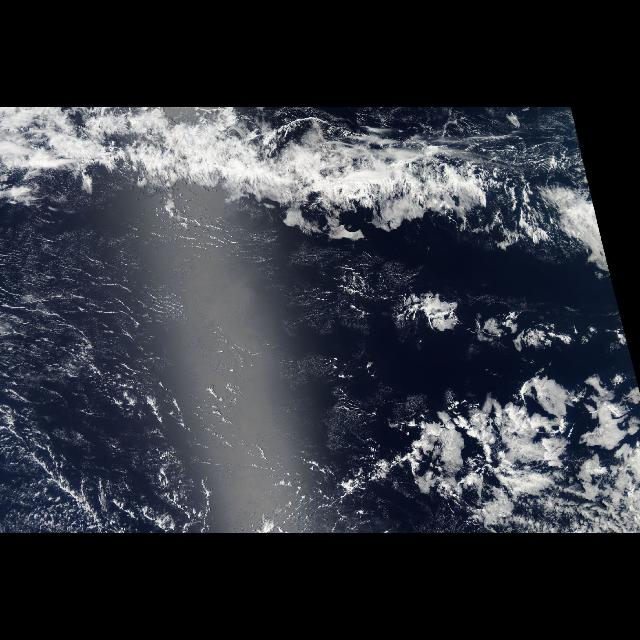Fish: (0, 111, 598, 219)
Flower: (428, 350, 638, 532)
Gravel: (9, 242, 193, 526)
